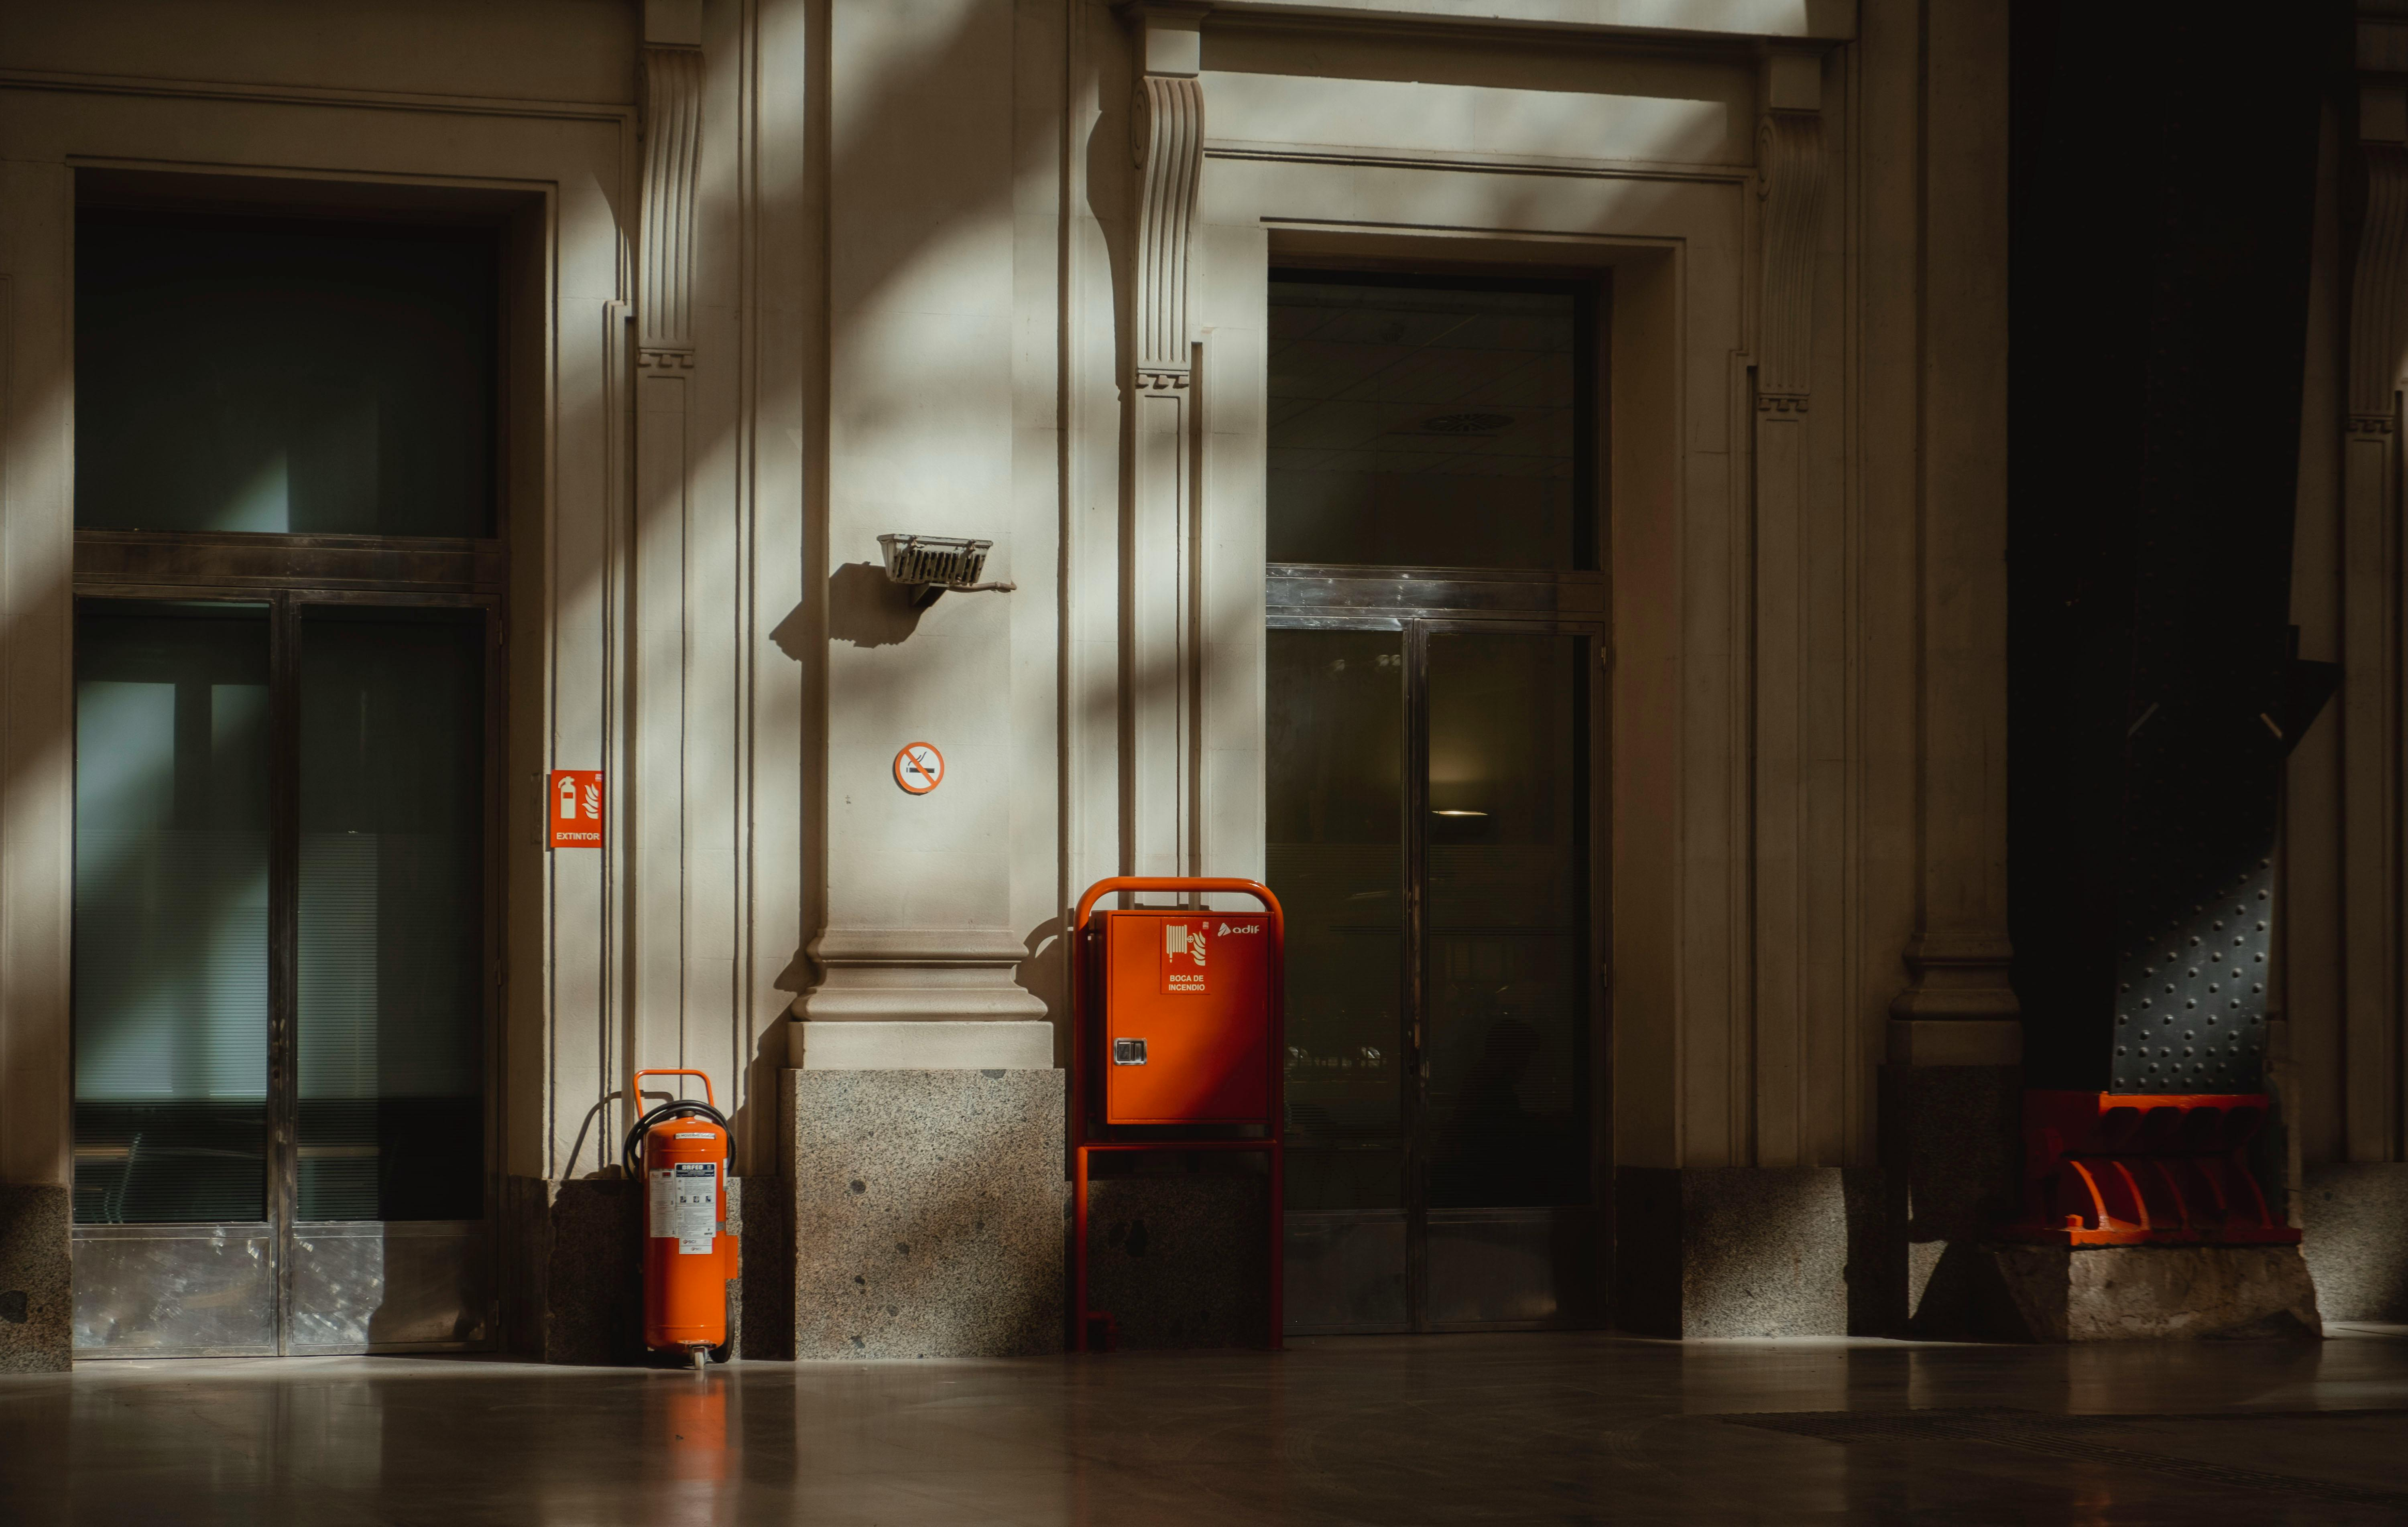extintor: (625, 1058, 742, 1376)
